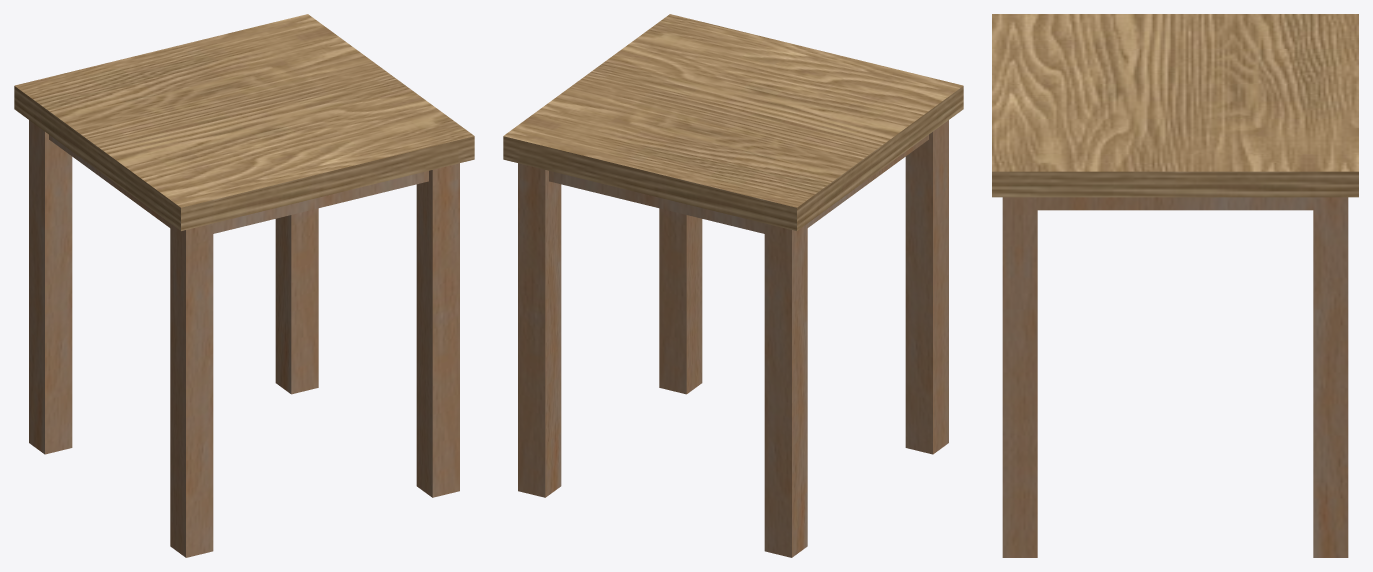
The model's file is Table_37.glb.
3 renders of one model, left to right at view 1: azimuth 30°, elevation 25°; view 2: azimuth 150°, elevation 25°; view 3: azimuth 270°, elevation 25°, orthographic. The views are drawn at different scales.
Parts seen in each view (by area): view 1: Table_37; view 2: Table_37; view 3: Table_37.
Part boxes in pixels (x1,y1,x2,y2): Table_37: (14,14,474,557); Table_37: (503,14,963,557); Table_37: (992,14,1358,557).
Size of the model in its own units: 0.6049 by 0.7008 by 0.5951.
Materials: 2 (2 with a texture image).
